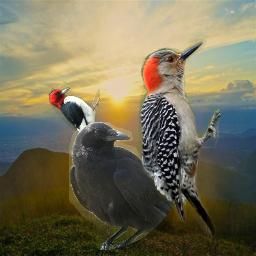Crow: (69, 122, 175, 250)
Woodpecker: (132, 36, 221, 248), (49, 87, 100, 156)
